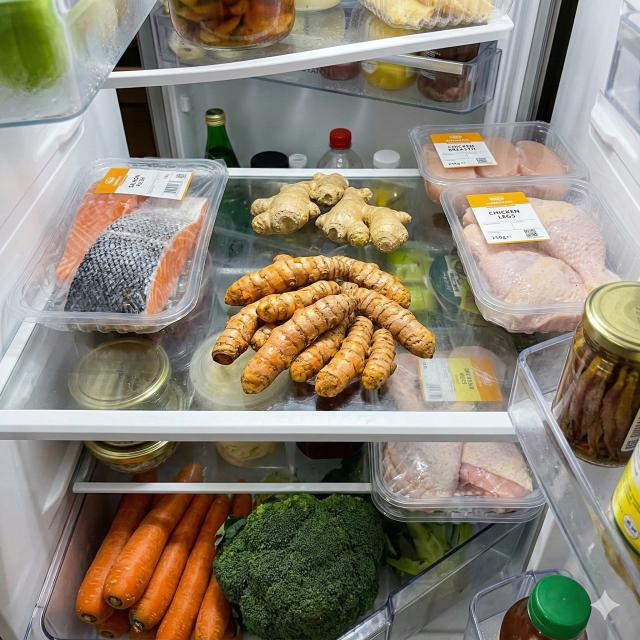brocolli: (213, 494, 384, 640)
carrot: (75, 463, 254, 640)
chicken: (462, 197, 622, 335), (421, 136, 569, 205)
fish: (56, 178, 210, 331), (381, 442, 534, 513)
ginger: (250, 172, 412, 252)
turmeric: (212, 254, 436, 397)
